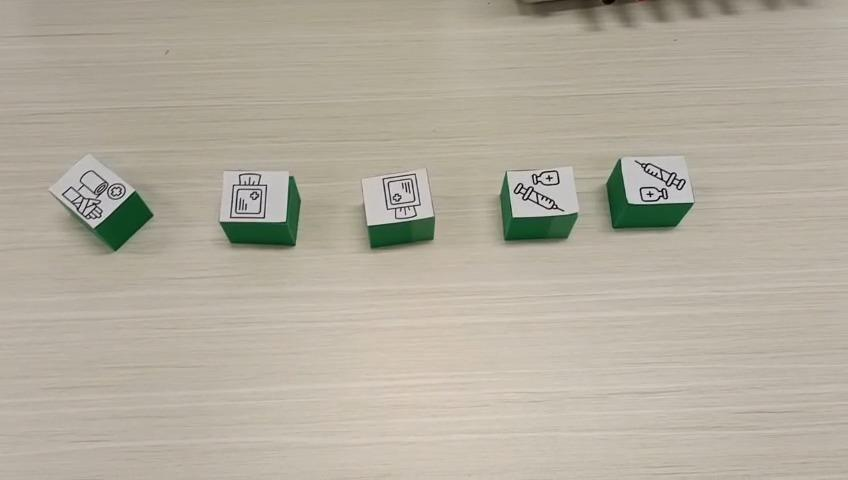Bandages: (45, 151, 152, 251)
Gauze: (219, 169, 301, 247), (360, 166, 435, 247)
antiseptic cream: (605, 154, 696, 229), (499, 165, 580, 241)
